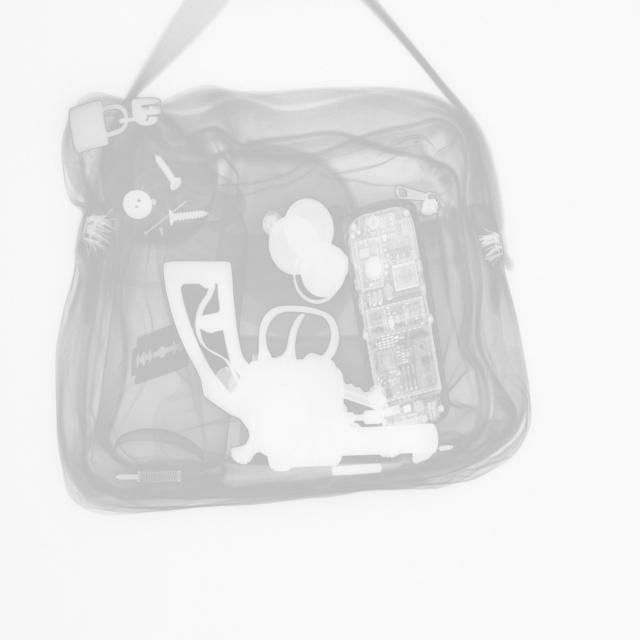pistol: (162, 257, 441, 470)
